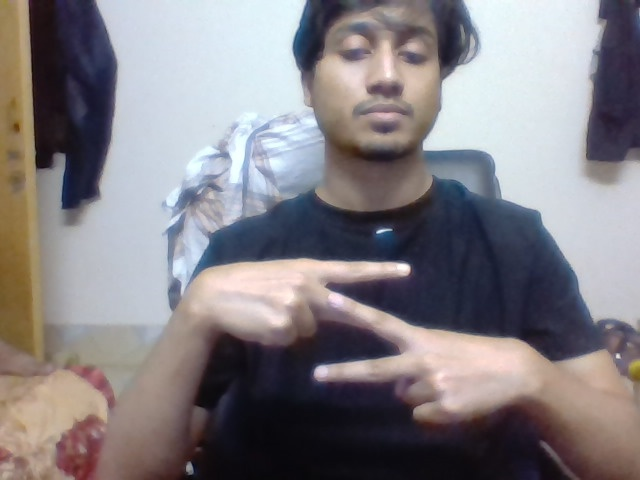Z: (302, 256, 422, 386)
